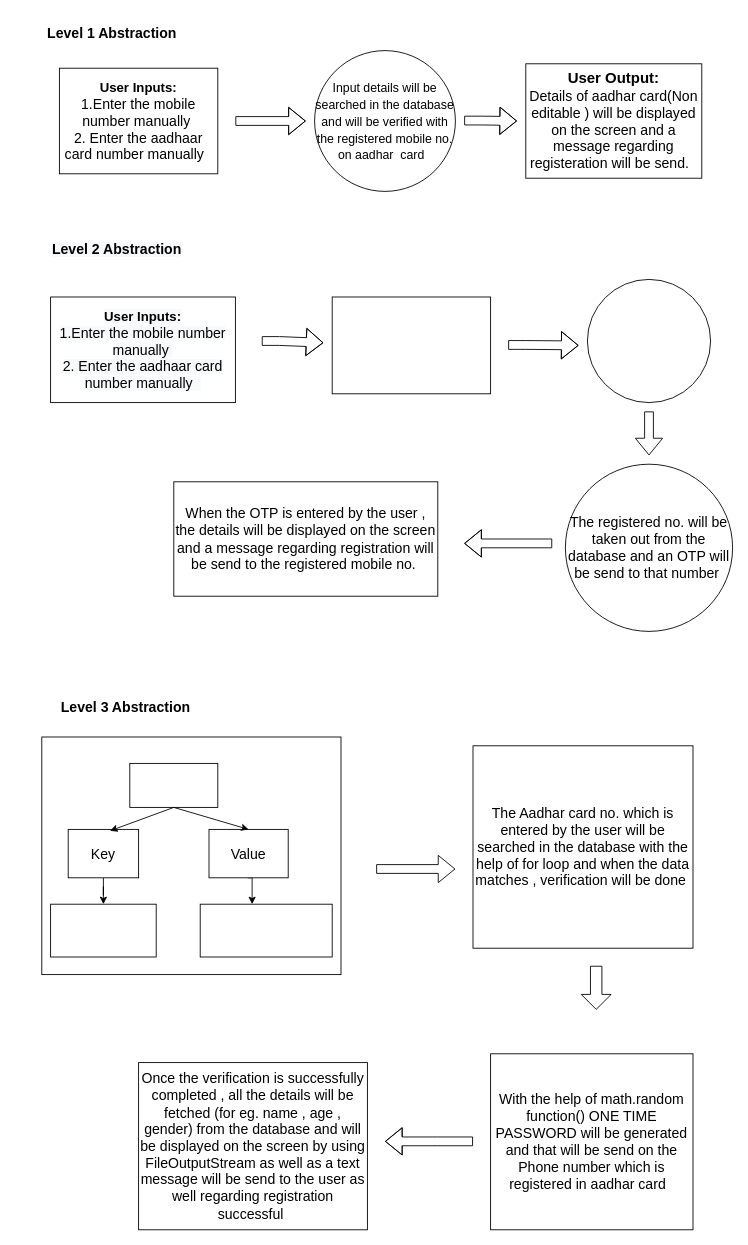
Image size: 748x1245. Some labels were removed from this diagram. The shapes that lost their labels are listed below. From the top down, each one's centre as x and y in pixels, then its label:
At [411,345]: "Input details will be saved in HashMap pair".
At [649,341]: "Aadhaar card no. will be searched in the database".
At [173,785]: "HashMap".
At [103,930]: "Aadhar card no. will be treated as key".
At [265,930]: "Phone no. and various other details will be treated as value".
